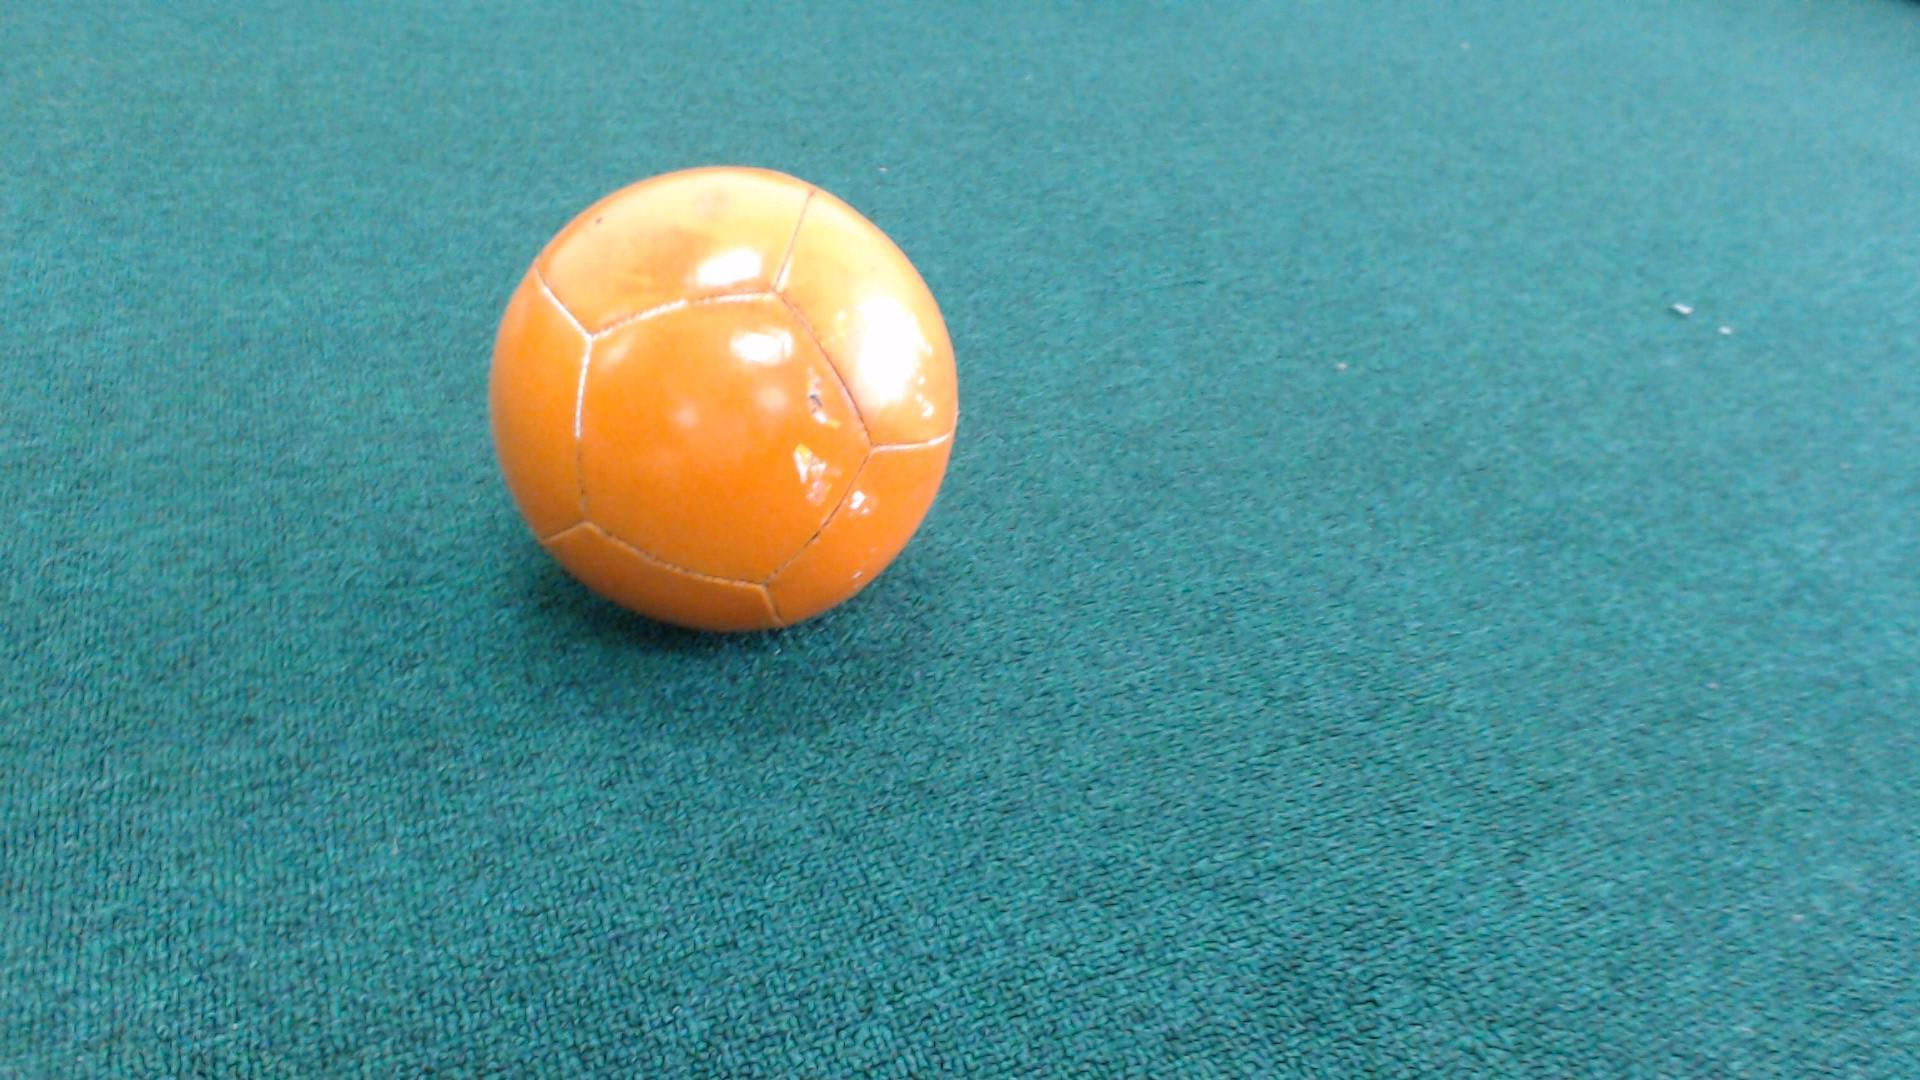bola: (475, 156, 993, 678)
